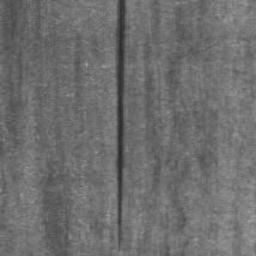Scratches: (116, 0, 127, 246)
